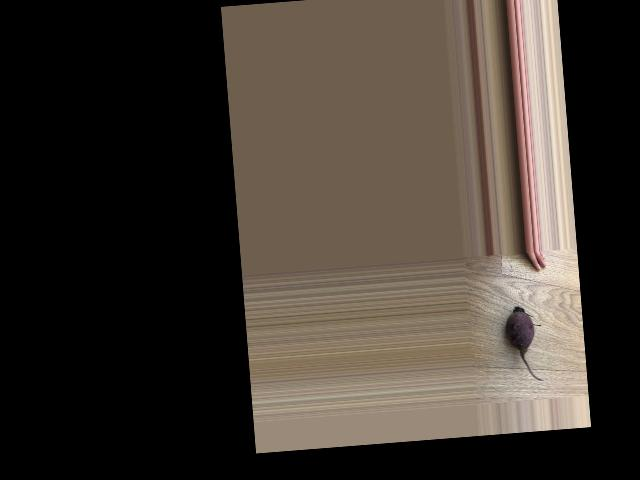beet: (504, 305, 545, 383)
